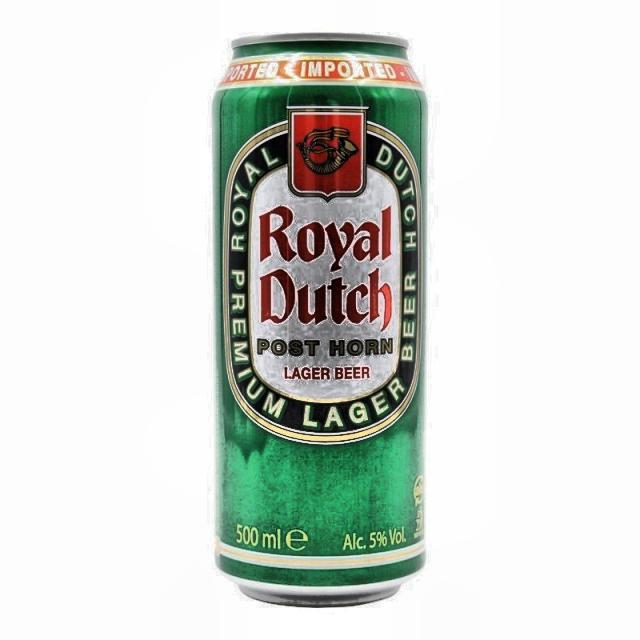Cans: (202, 30, 428, 611)
